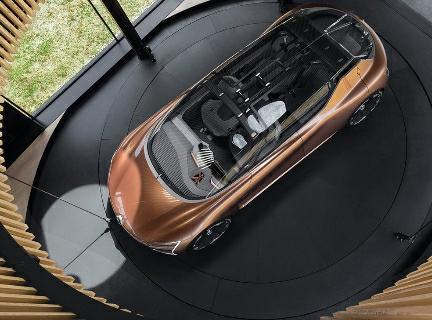雷诺-Symbioz: (97, 6, 397, 265)
